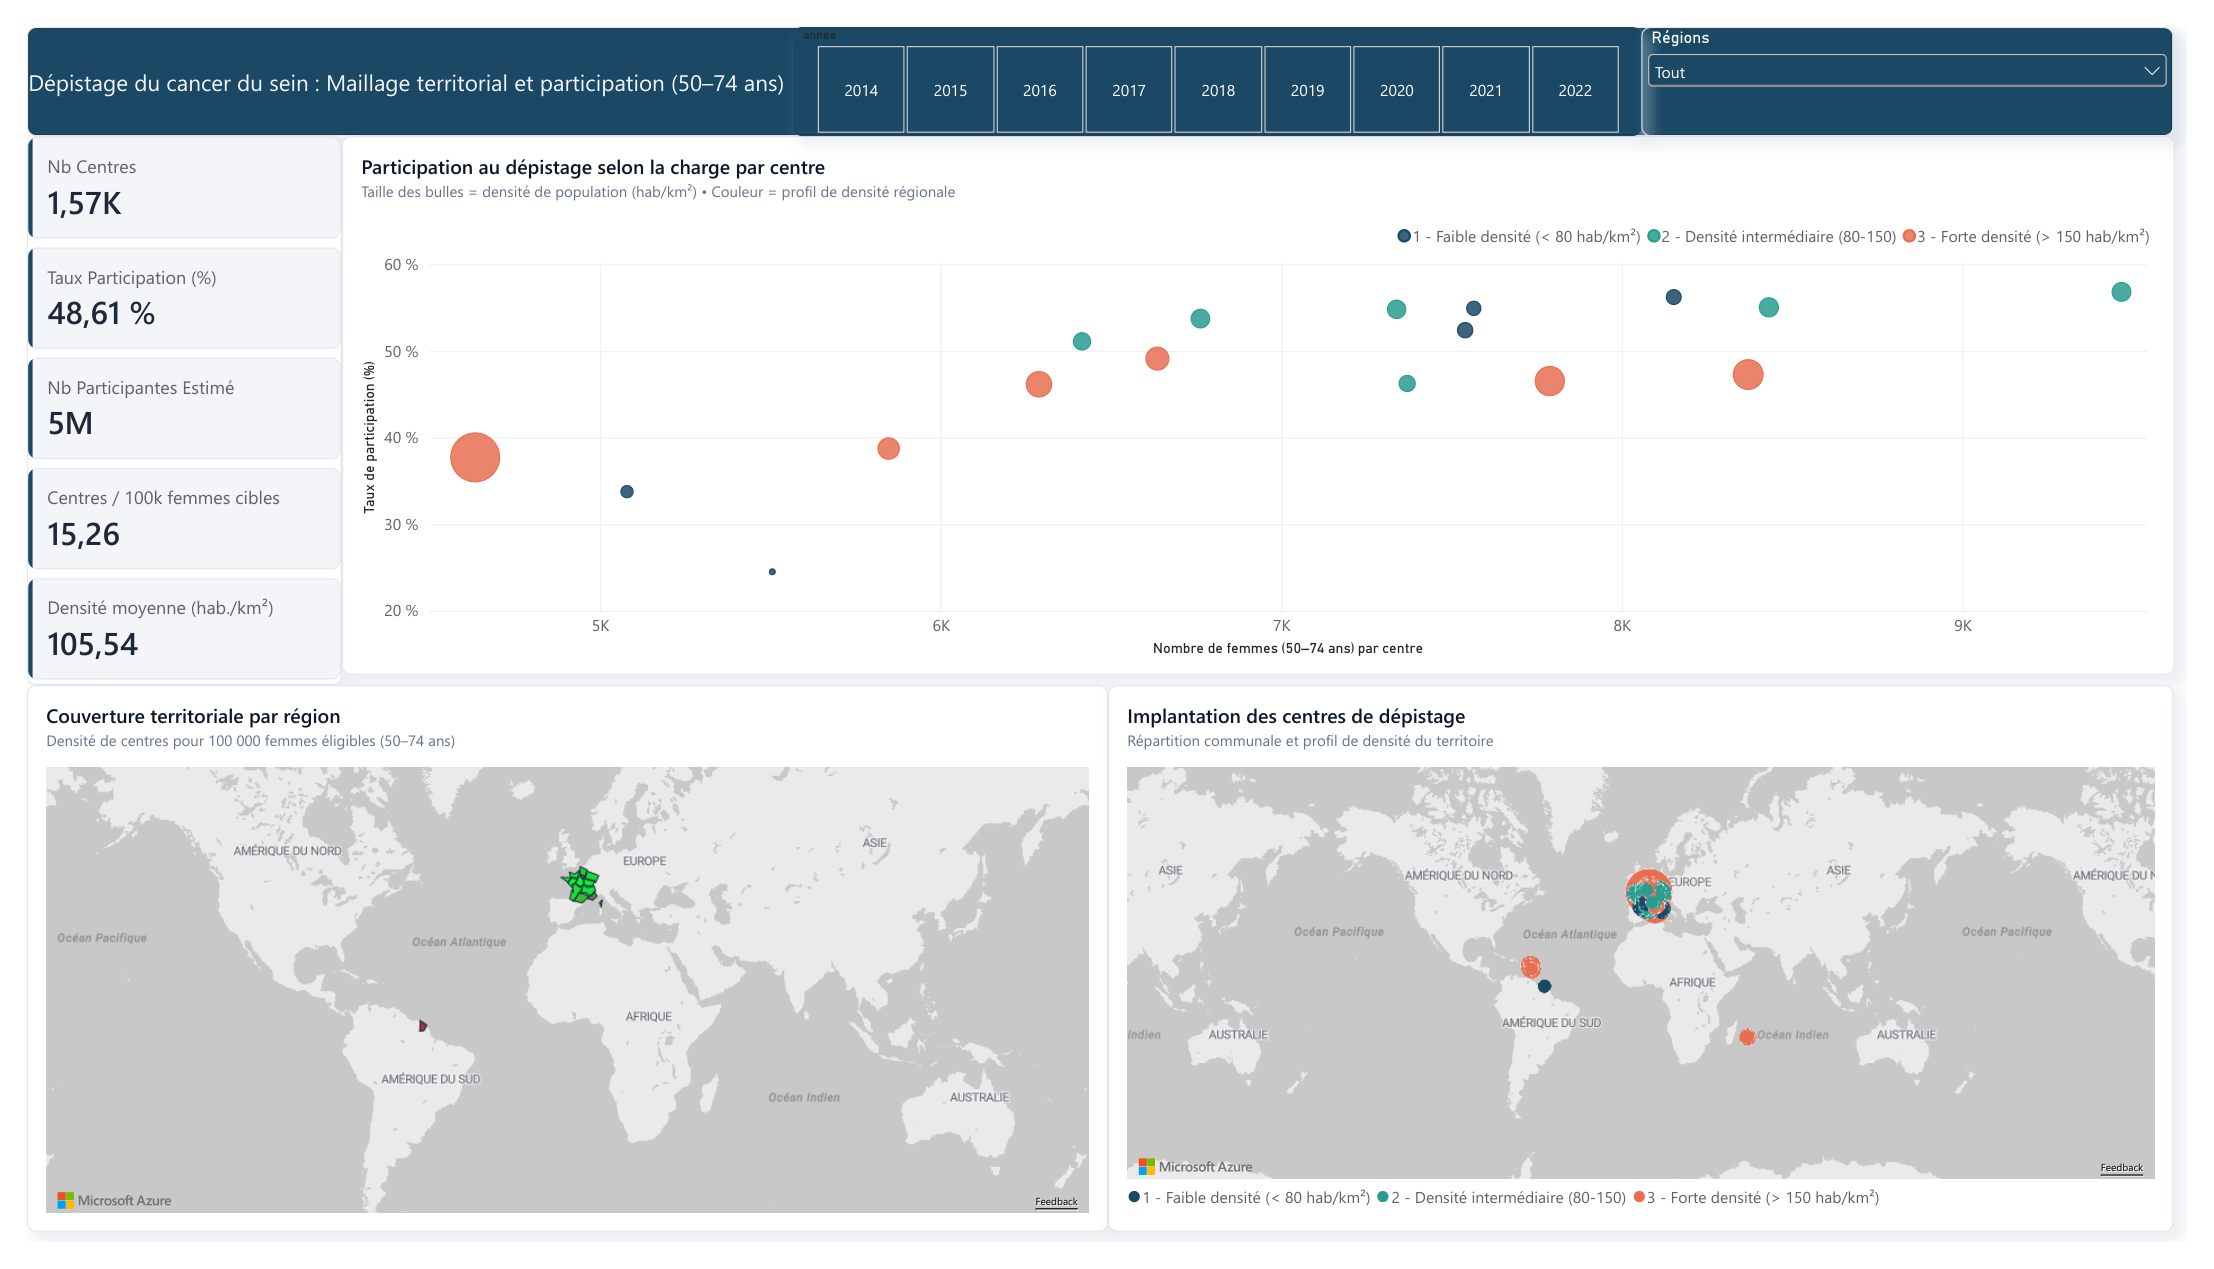

Layout of this report page (visuals, bound fields, positions):
{"tool":"powerbi","page":{"name":"Dépistage du cancer du sein : Maillage territorial et participation (50–74 ans)","canvas":[1920,1080],"ordinal":1},"visuals":[{"type":"shape","box":[0,0,1908.5,97.2],"z":0},{"type":"cardVisual","fields":{"Data":["_Mesures.Nb Centres","_Mesures.Taux Participation (%)","_Mesures.Nb Participantes Estimé","_Mesures.Centres / 100k Femmes 50-74","_Mesures.Densité Population (hab/km²)"]},"box":[0,97.2,280.1,487.4],"z":3000},{"type":"scatterChart","title":"Participation au dépistage selon la charge par centre","fields":{"Category":["DIM_regions.libelle_region"],"Series":["DIM_regions.Profil Densité"],"Size":["_Mesures.Densité Population (hab/km²)"],"X":["_Mesures.Femmes 50-74 / Centre"],"Y":["_Mesures.Taux Participation (%)"]},"box":[280.1,97.4,1628.6,478.8],"z":4000},{"type":"azureMap","title":"Couverture territoriale par région","fields":{"Category":["DIM_regions.Localisation Carte"]},"box":[0,584.6,960.6,486.1],"z":5000},{"type":"azureMap","title":"Implantation des centres de dépistage","fields":{"Category":["mart_carte_centres_ville.Localisation_Carte_Propre"],"Series":["DIM_regions.Profil Densité"],"Size":["_Mesures.Nb Centres"]},"box":[960.6,584.6,947.8,486.1],"z":6000},{"type":"slicer","fields":{"Values":["DIM_annee.annee"]},"box":[680.5,0,754.7,97.2],"z":6500},{"type":"slicer","fields":{"Values":["DIM_regions.libelle_region"]},"box":[1435.2,0,473.3,97.2],"z":7000}]}

Visuals, with their boxes in screenshot pixels (x1, y1, x2, y2), scaled from the page's 1920x1080 canvas onto the 2214x1269 screenshot:
shape: BBox(0, 0, 2201, 114)
cardVisual - _Mesures.Nb Centres x _Mesures.Taux Participation (%): BBox(0, 114, 323, 687)
"Participation au dépistage selon la charge par centre" scatterChart: BBox(323, 114, 2201, 677)
"Couverture territoriale par région" azureMap: BBox(0, 687, 1108, 1258)
"Implantation des centres de dépistage" azureMap: BBox(1108, 687, 2201, 1258)
slicer - DIM_annee.annee: BBox(785, 0, 1655, 114)
slicer - DIM_regions.libelle_region: BBox(1655, 0, 2201, 114)
